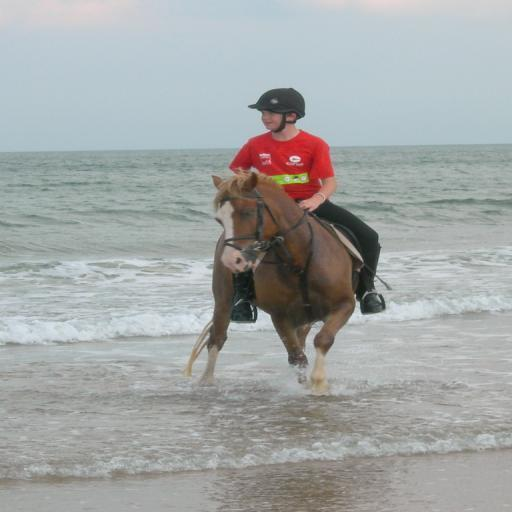horse: (183, 168, 362, 392)
